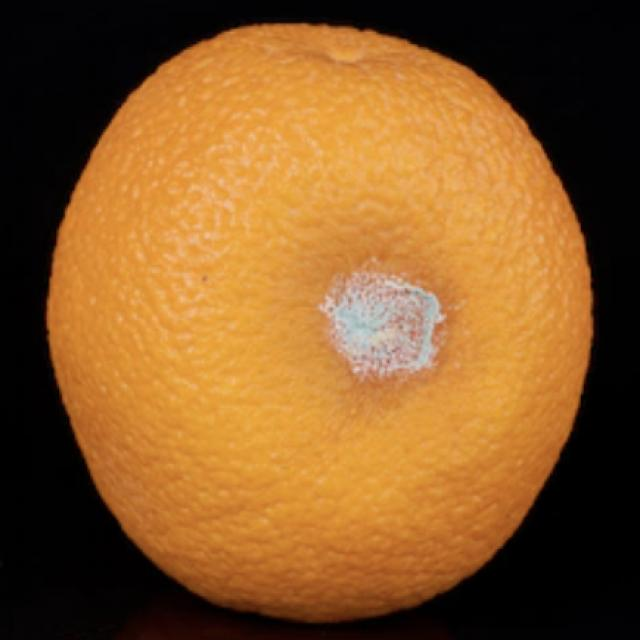rotten-orange: (45, 25, 590, 623)
